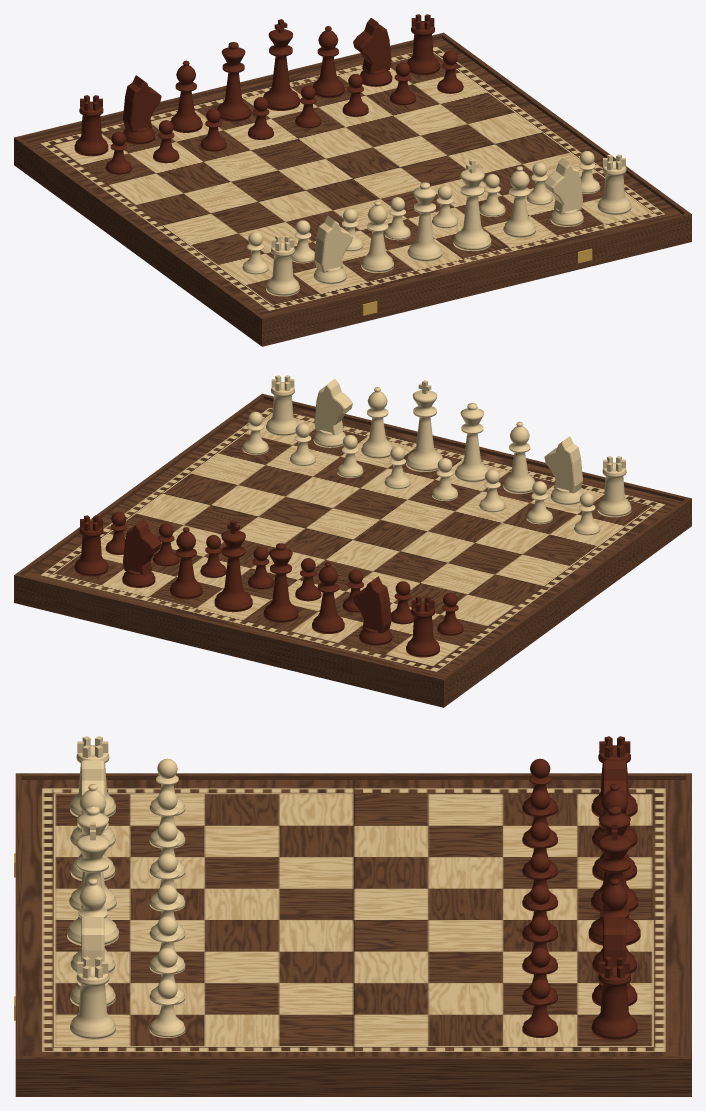
File: philidor-3d-noyer-pliable-49-v2.glb
3 views of the same model, one above another, from view 1: azimuth 30°, elevation 25°; view 2: azimuth 150°, elevation 25°; view 3: azimuth 270°, elevation 25° (orthographic). The views are drawn at different scales.
Parts seen in each view (by area): view 1: noyer-pliable-49; view 2: noyer-pliable-49; view 3: noyer-pliable-49.
Boxes of the visible parts, x1,y1,x2,y2 form: noyer-pliable-49: [14, 14, 691, 346]; noyer-pliable-49: [14, 375, 691, 707]; noyer-pliable-49: [14, 736, 691, 1096].
Size of what is drawn, in the model's own units: 0.49 by 0.1169 by 0.4912.
Materials: 5 (2 with a texture image).
